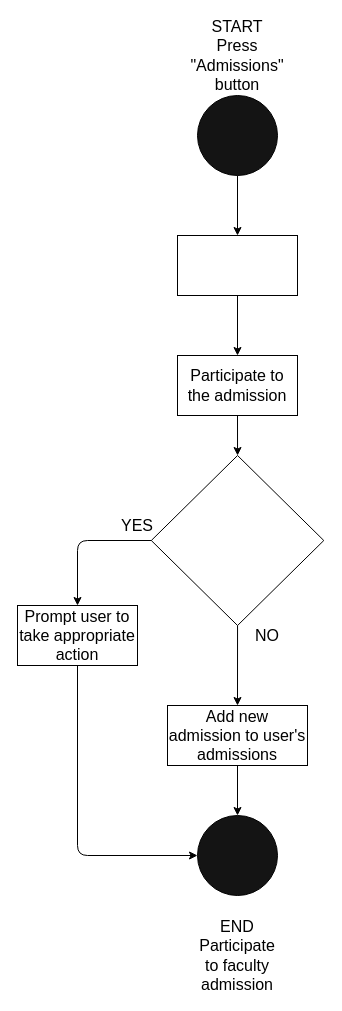
Image size: 342x1011. Some labels were removed from this diagram. The box of each missing label's shape, as (x1, y1, x2, y2) in pixels:
Apply filter: (176, 234, 298, 296)
Check if admission conflict exists: (150, 454, 324, 626)
